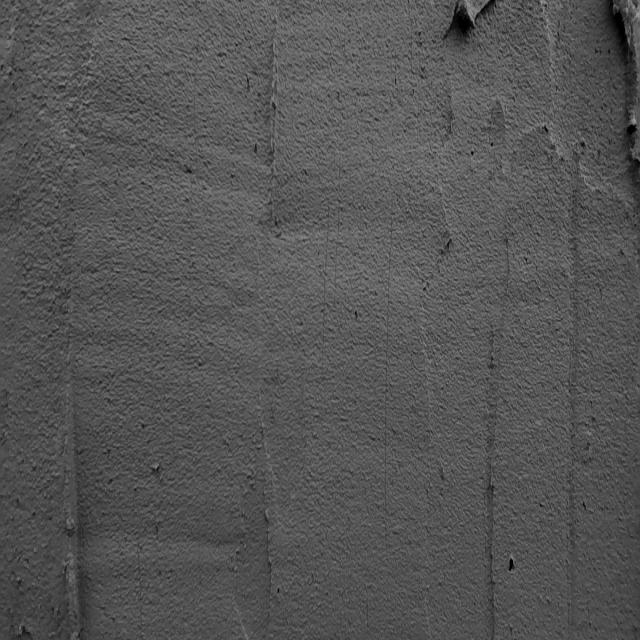trowels marks: (484, 229, 516, 640), (58, 329, 88, 640), (261, 14, 287, 229)
